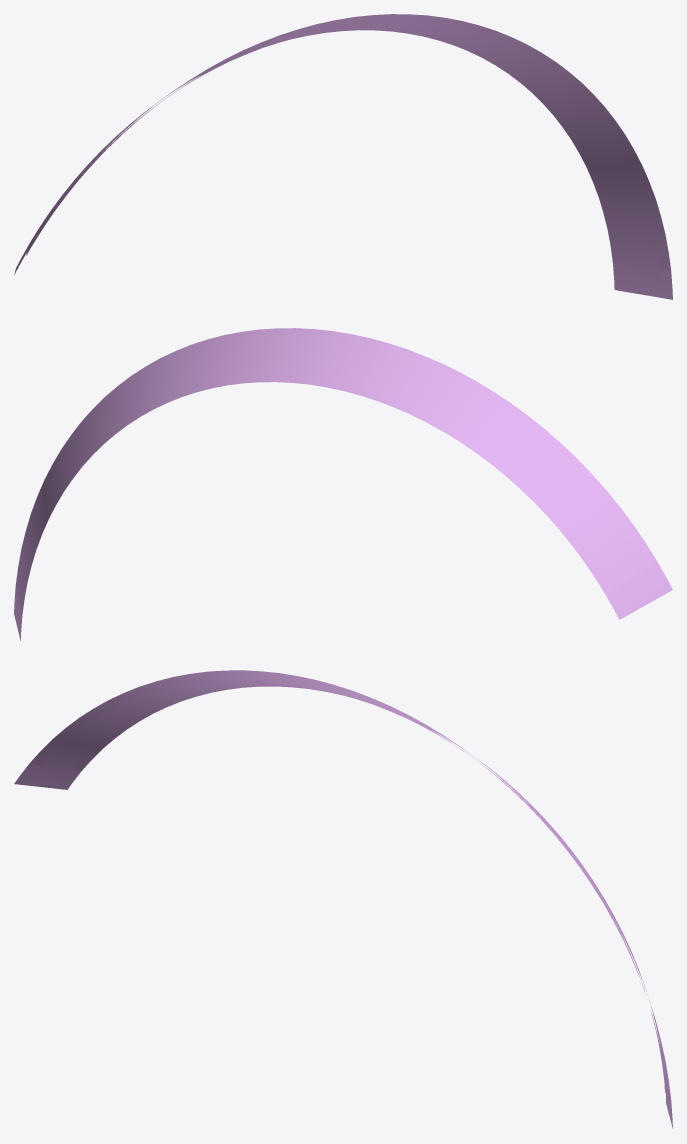
File: Mesh_Note_25.fbx
The picture shows the model from 3 angles, top to bottom: view 1: azimuth 30°, elevation 25°; view 2: azimuth 150°, elevation 25°; view 3: azimuth 330°, elevation 25°; orthographic projection.
Parts seen in each view (by area): view 1: Mesh_Note_25; view 2: Mesh_Note_25; view 3: Mesh_Note_25.
Part boxes in pixels (left/top/right/bottom): Mesh_Note_25: left=14, top=14, right=672, bottom=299; Mesh_Note_25: left=14, top=328, right=672, bottom=640; Mesh_Note_25: left=14, top=670, right=672, bottom=1128.
Size of the model in its own units: 3.29 by 1.74 by 0.2235.
